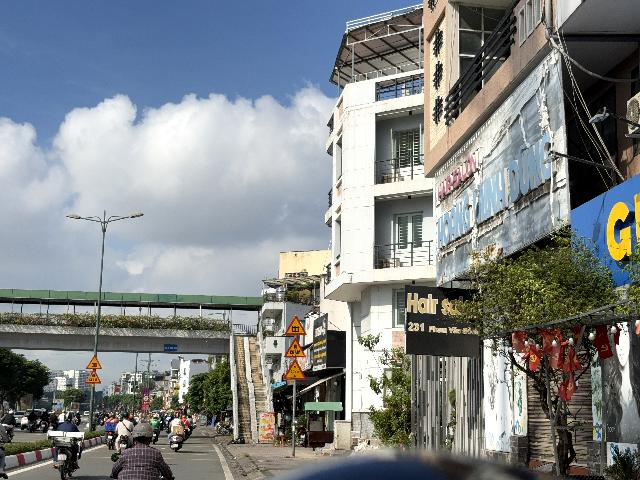chieu-cao-tinh-khong-thuc-te: (283, 359, 307, 380)
di-cham: (284, 338, 307, 357), (85, 370, 102, 384)
noi-giao-nhau-voi-duong-sat-co-rao-chan: (284, 315, 306, 335), (86, 355, 102, 369)
